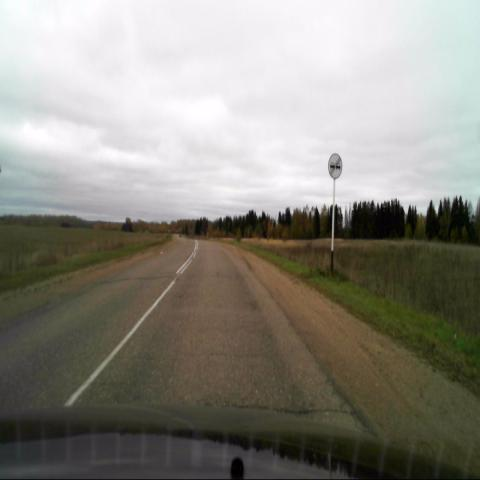3_21: (327, 151, 343, 179)
